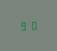nine: (19, 20, 27, 31)
zero: (28, 20, 36, 30)
